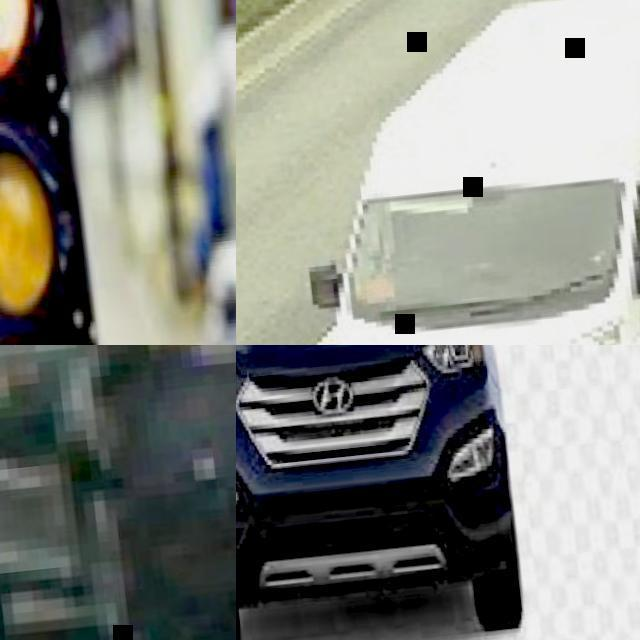car: (3, 0, 236, 351), (0, 431, 136, 639)
